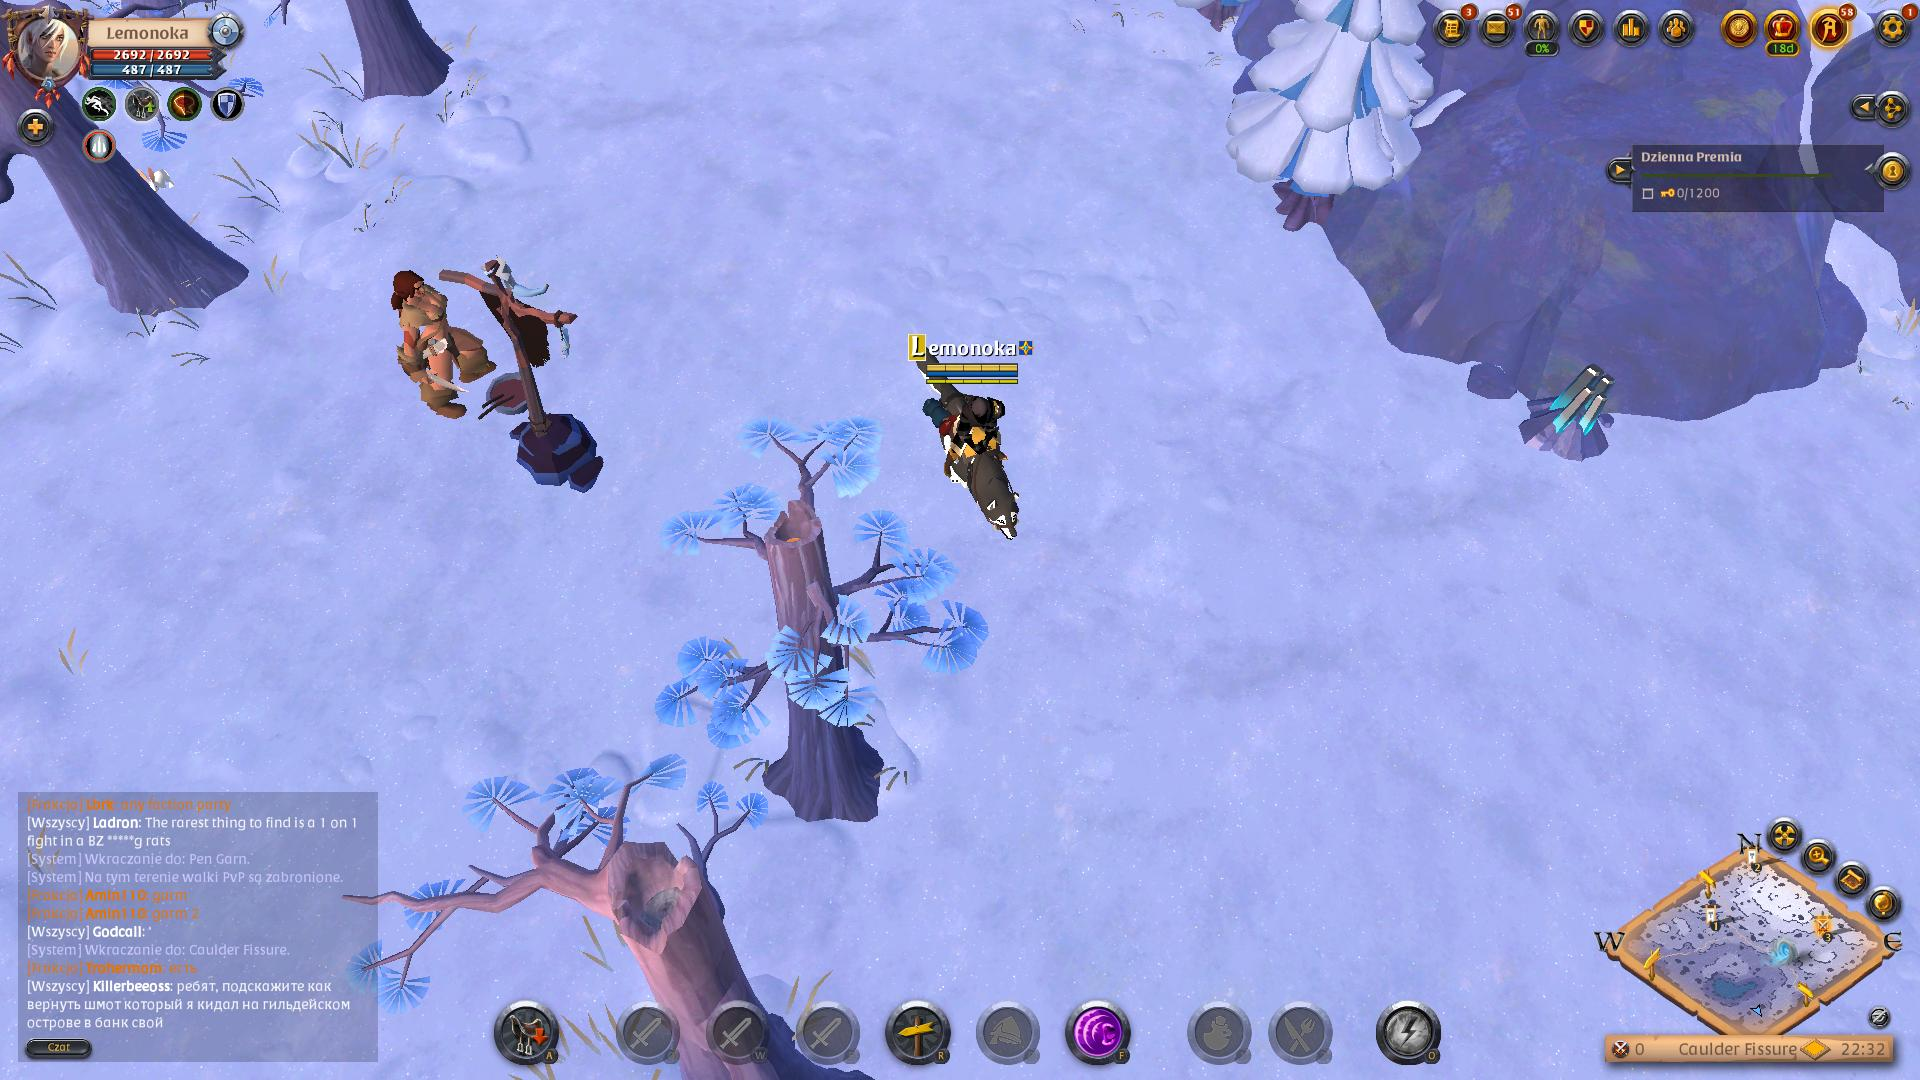ore tier 4: (1518, 361, 1618, 467)
